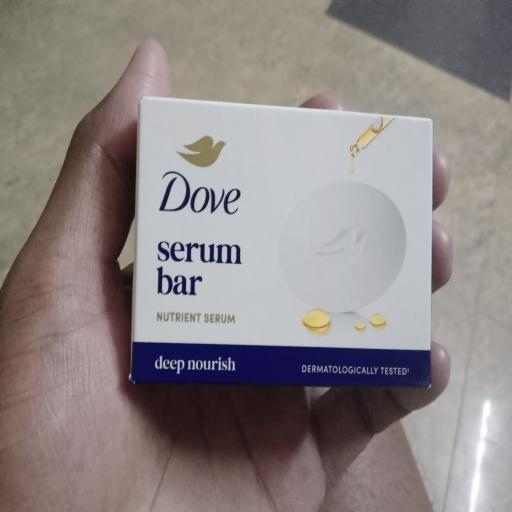Dove`1: (134, 83, 440, 392)
